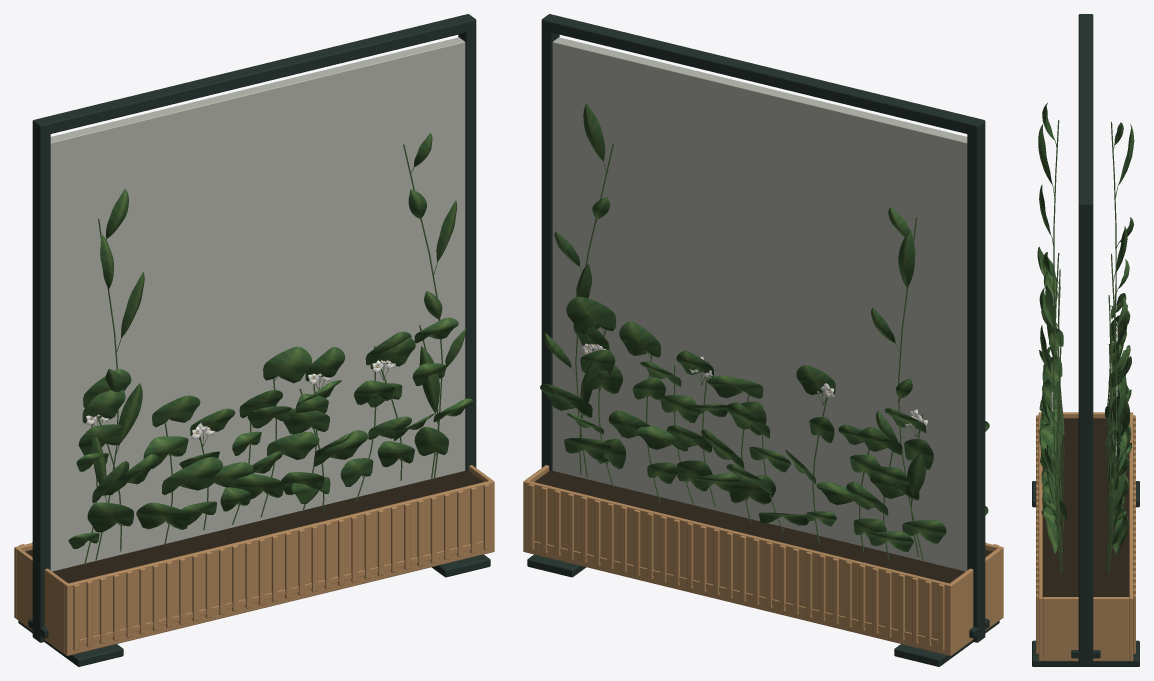
The model's file is botanicalDivider-1.glb.
The picture shows the model from 3 angles, left to right: view 1: azimuth 30°, elevation 25°; view 2: azimuth 150°, elevation 25°; view 3: azimuth 270°, elevation 25°; orthographic projection. The views are drawn at different scales.
Visible parts, largest first — view 1: Botanical_felt_screen, Botanical_frame_finish, Botanical_living_foliage, Botanical_powdercoat, Botanical_recessed_soil, Botanical_connected_stems; view 2: Botanical_felt_screen, Botanical_frame_finish, Botanical_living_foliage, Botanical_powdercoat, Botanical_recessed_soil, Botanical_connected_stems; view 3: Botanical_powdercoat, Botanical_living_foliage, Botanical_recessed_soil, Botanical_frame_finish, Botanical_connected_stems, Botanical_leaf_midribs.
Part boxes in pixels (bbox=[...]): Botanical_felt_screen: bbox=[50, 37, 465, 571]; Botanical_frame_finish: bbox=[14, 465, 494, 655]; Botanical_living_foliage: bbox=[68, 133, 473, 548]; Botanical_powdercoat: bbox=[18, 14, 490, 666]; Botanical_recessed_soil: bbox=[25, 471, 483, 583]; Botanical_connected_stems: bbox=[84, 144, 442, 565]; Botanical_felt_screen: bbox=[552, 37, 967, 571]; Botanical_frame_finish: bbox=[523, 465, 1003, 655]; Botanical_living_foliage: bbox=[540, 103, 989, 551]; Botanical_powdercoat: bbox=[527, 14, 999, 666]; Botanical_recessed_soil: bbox=[534, 471, 992, 583]; Botanical_connected_stems: bbox=[571, 143, 923, 560]; Botanical_powdercoat: bbox=[1032, 14, 1139, 666]; Botanical_living_foliage: bbox=[1037, 103, 1133, 554]; Botanical_recessed_soil: bbox=[1042, 418, 1129, 597]; Botanical_frame_finish: bbox=[1036, 412, 1135, 661]; Botanical_connected_stems: bbox=[1051, 120, 1118, 574]; Botanical_leaf_midribs: bbox=[1038, 112, 1134, 542].
Bounding box in the file's own units: 2 × 2.3 × 0.48.
